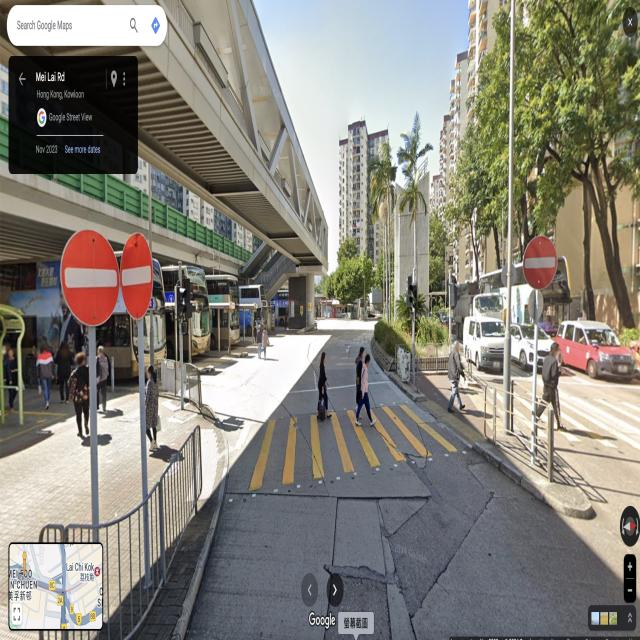Order-Sign: (59, 228, 119, 328), (121, 232, 153, 319), (523, 236, 557, 292)
